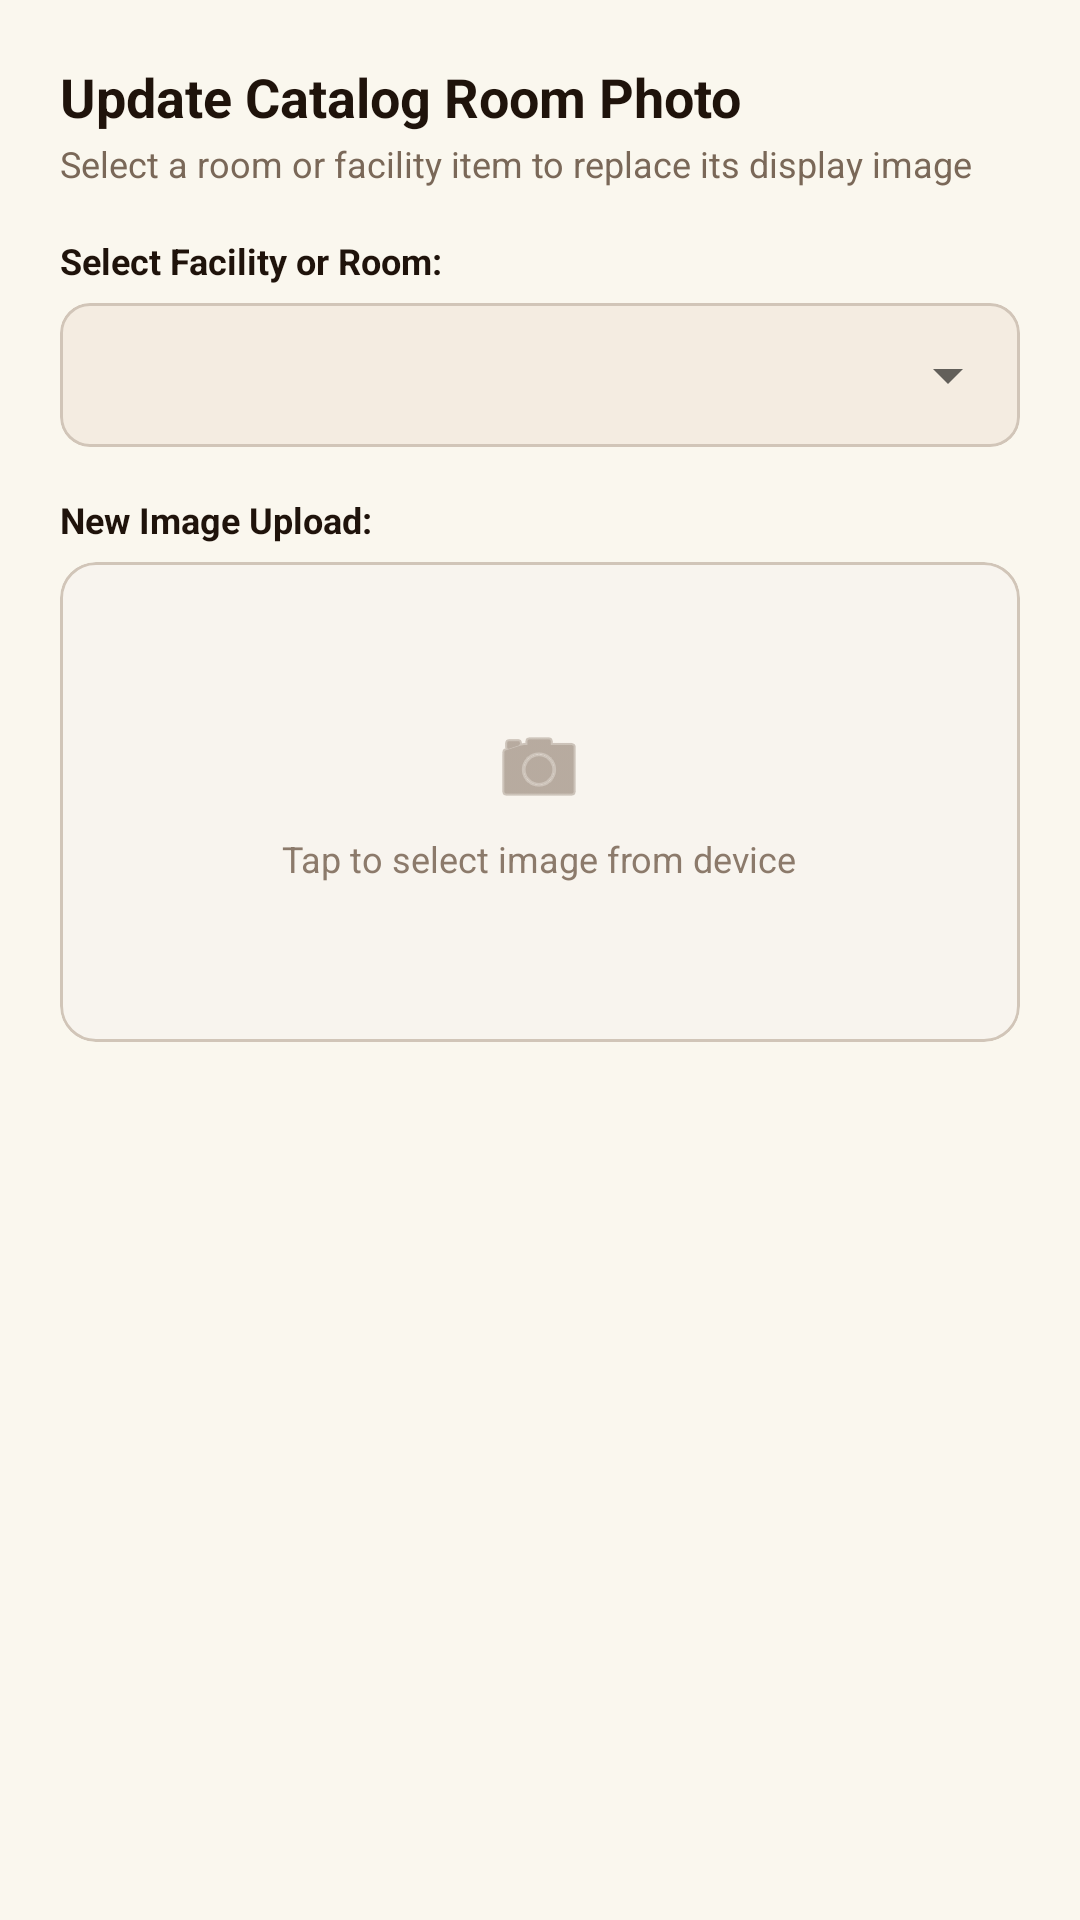

Where icons sit on this 1080x1920 app screen, as (x1, y1, x2, y2):
camera: (502, 737, 576, 796)
